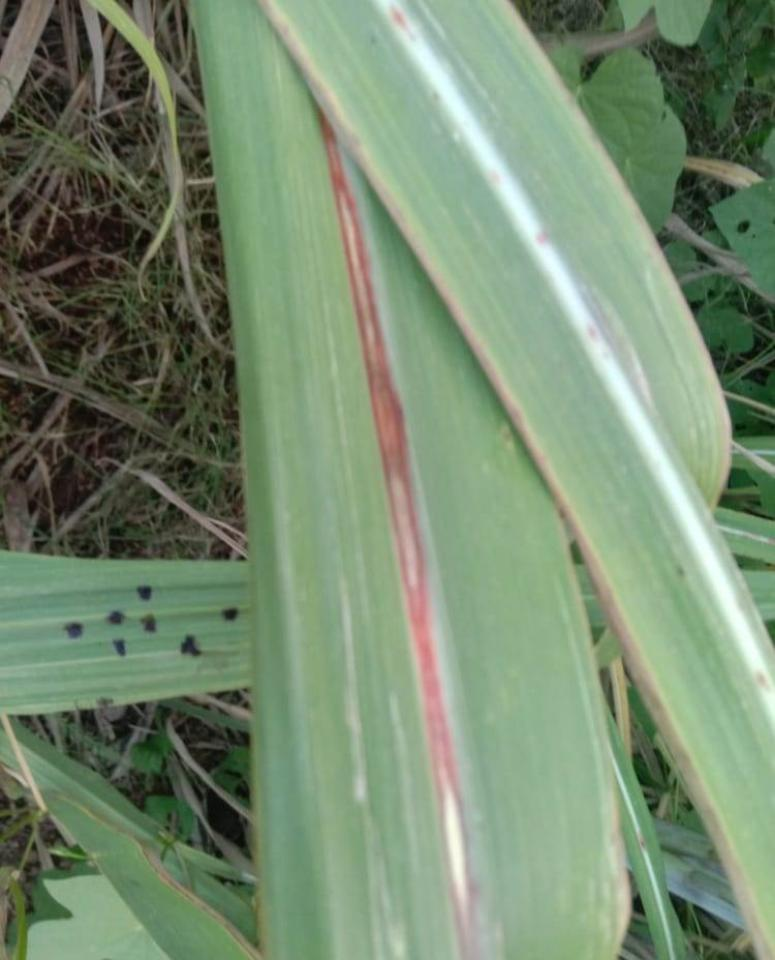RedRot: (318, 107, 484, 959), (387, 4, 418, 41), (483, 166, 507, 187), (581, 318, 602, 341), (534, 225, 551, 246)
